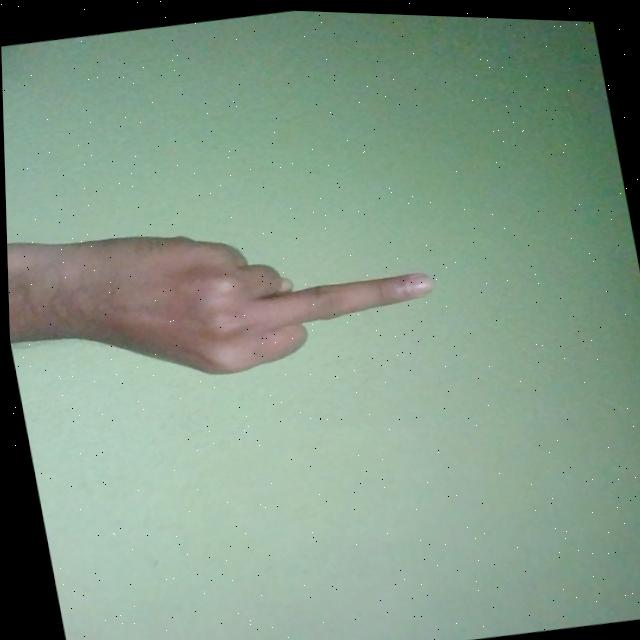Middle Finger: (15, 187, 444, 409)
